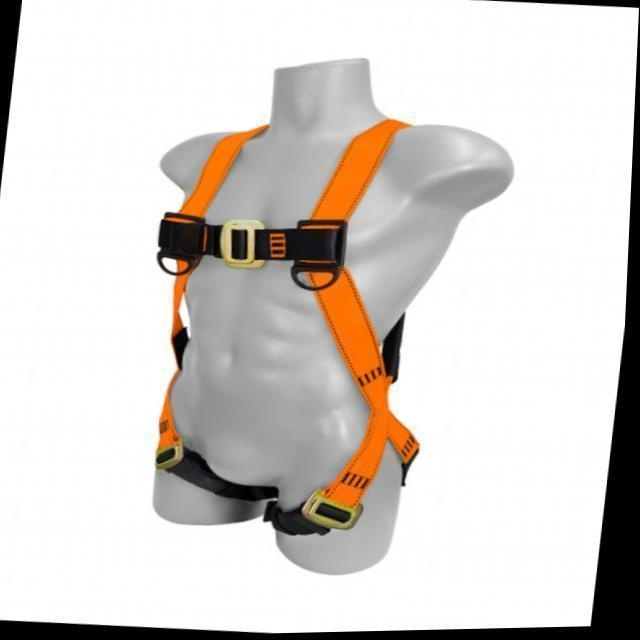Arnes_seguridad: (152, 115, 420, 537)
